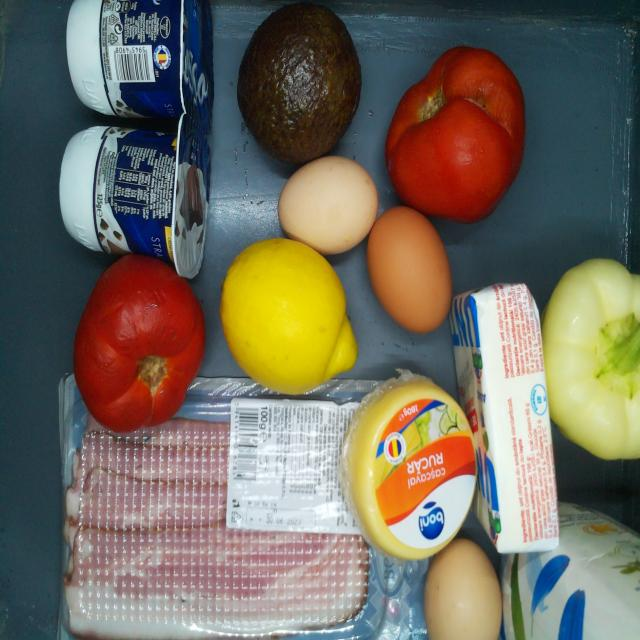avocado: (239, 4, 361, 162)
bacon: (59, 378, 418, 640)
butter: (458, 288, 560, 553)
cheese: (343, 374, 476, 562)
eggs: (280, 157, 378, 253), (368, 210, 451, 316), (429, 541, 502, 640)
lemon: (218, 240, 359, 392)
milk: (519, 515, 640, 640)
pepper: (551, 263, 640, 460)
tomatoes: (77, 256, 207, 430), (388, 46, 525, 207)
yogurt: (61, 131, 212, 277), (67, 4, 216, 122)
